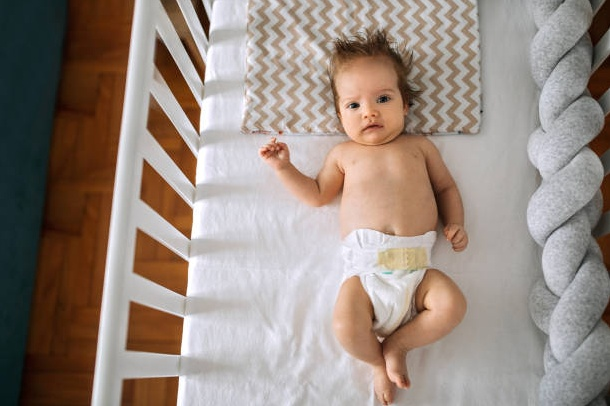baby: (259, 30, 467, 404)
crib: (396, 0, 609, 404)
